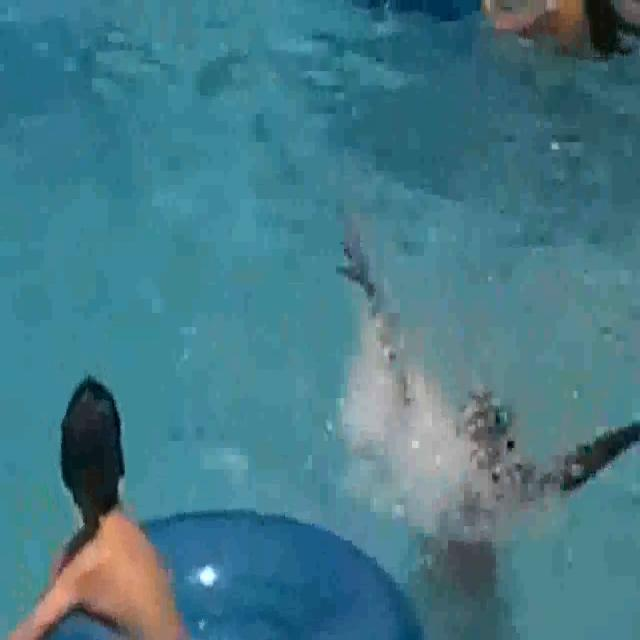Drowning: (337, 236, 639, 546)
Swimming: (19, 372, 193, 636)
